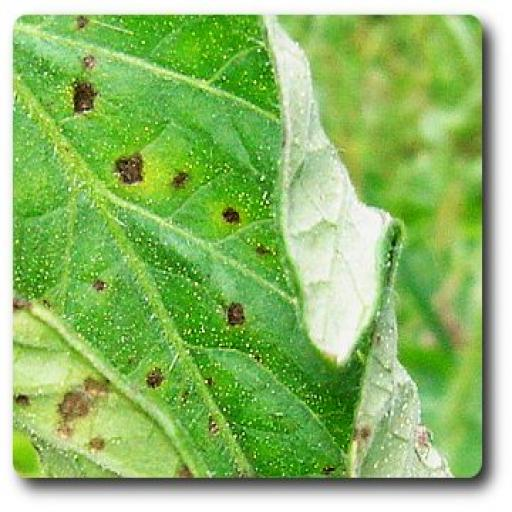Septoria: (14, 16, 454, 478)
